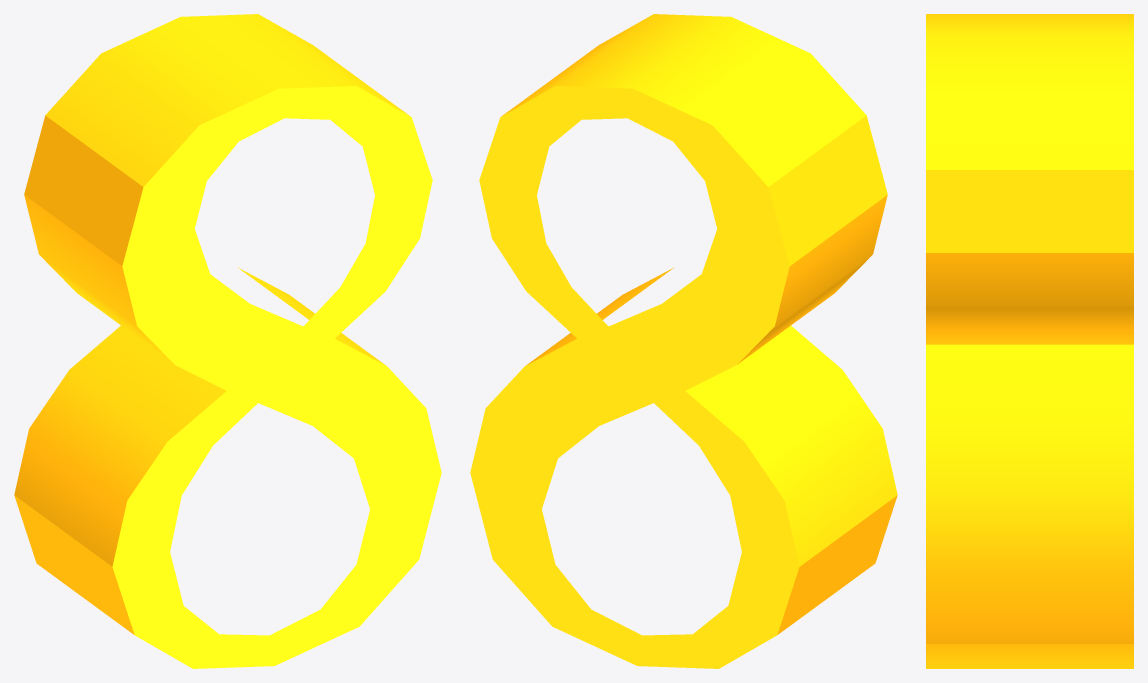
Rendered from f6a0aebf-513b-4718-a7f3-e7137a6ffccc.glb.
3 renders of one model, left to right at view 1: azimuth 30°, elevation 25°; view 2: azimuth 150°, elevation 25°; view 3: azimuth 270°, elevation 25°, orthographic. The views are drawn at different scales.
Visible parts, largest first — view 1: 8_Soul_Yellow; view 2: 8_Soul_Yellow; view 3: 8_Soul_Yellow.
Boxes of the visible parts, x1=… form: 8_Soul_Yellow: x1=14, y1=14, x2=441, y2=668; 8_Soul_Yellow: x1=470, y1=14, x2=897, y2=668; 8_Soul_Yellow: x1=926, y1=14, x2=1133, y2=668.
Size of what is drawn, in the model's own units: 0.0871 by 0.1457 by 0.045.
2 materials, 2 textured.
